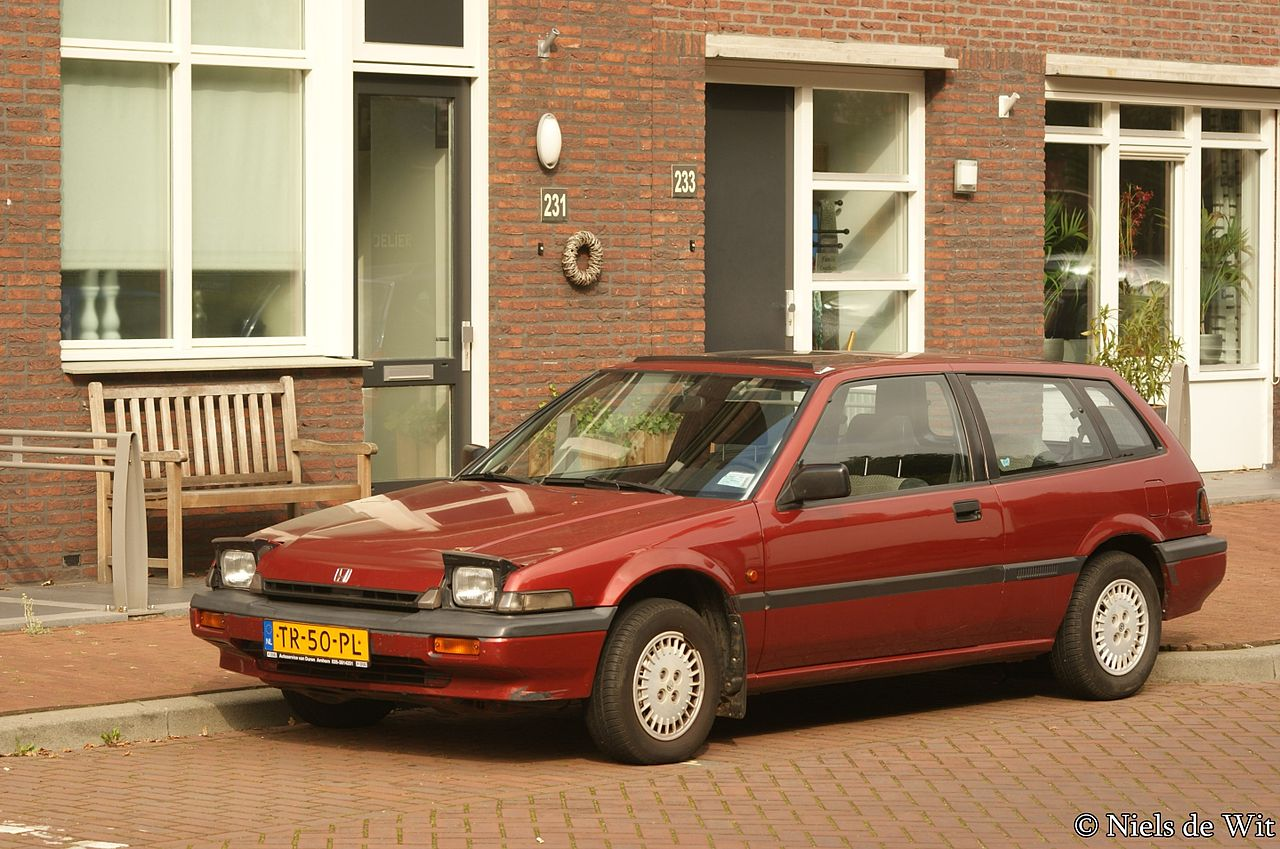plate: (262, 619, 370, 669)
